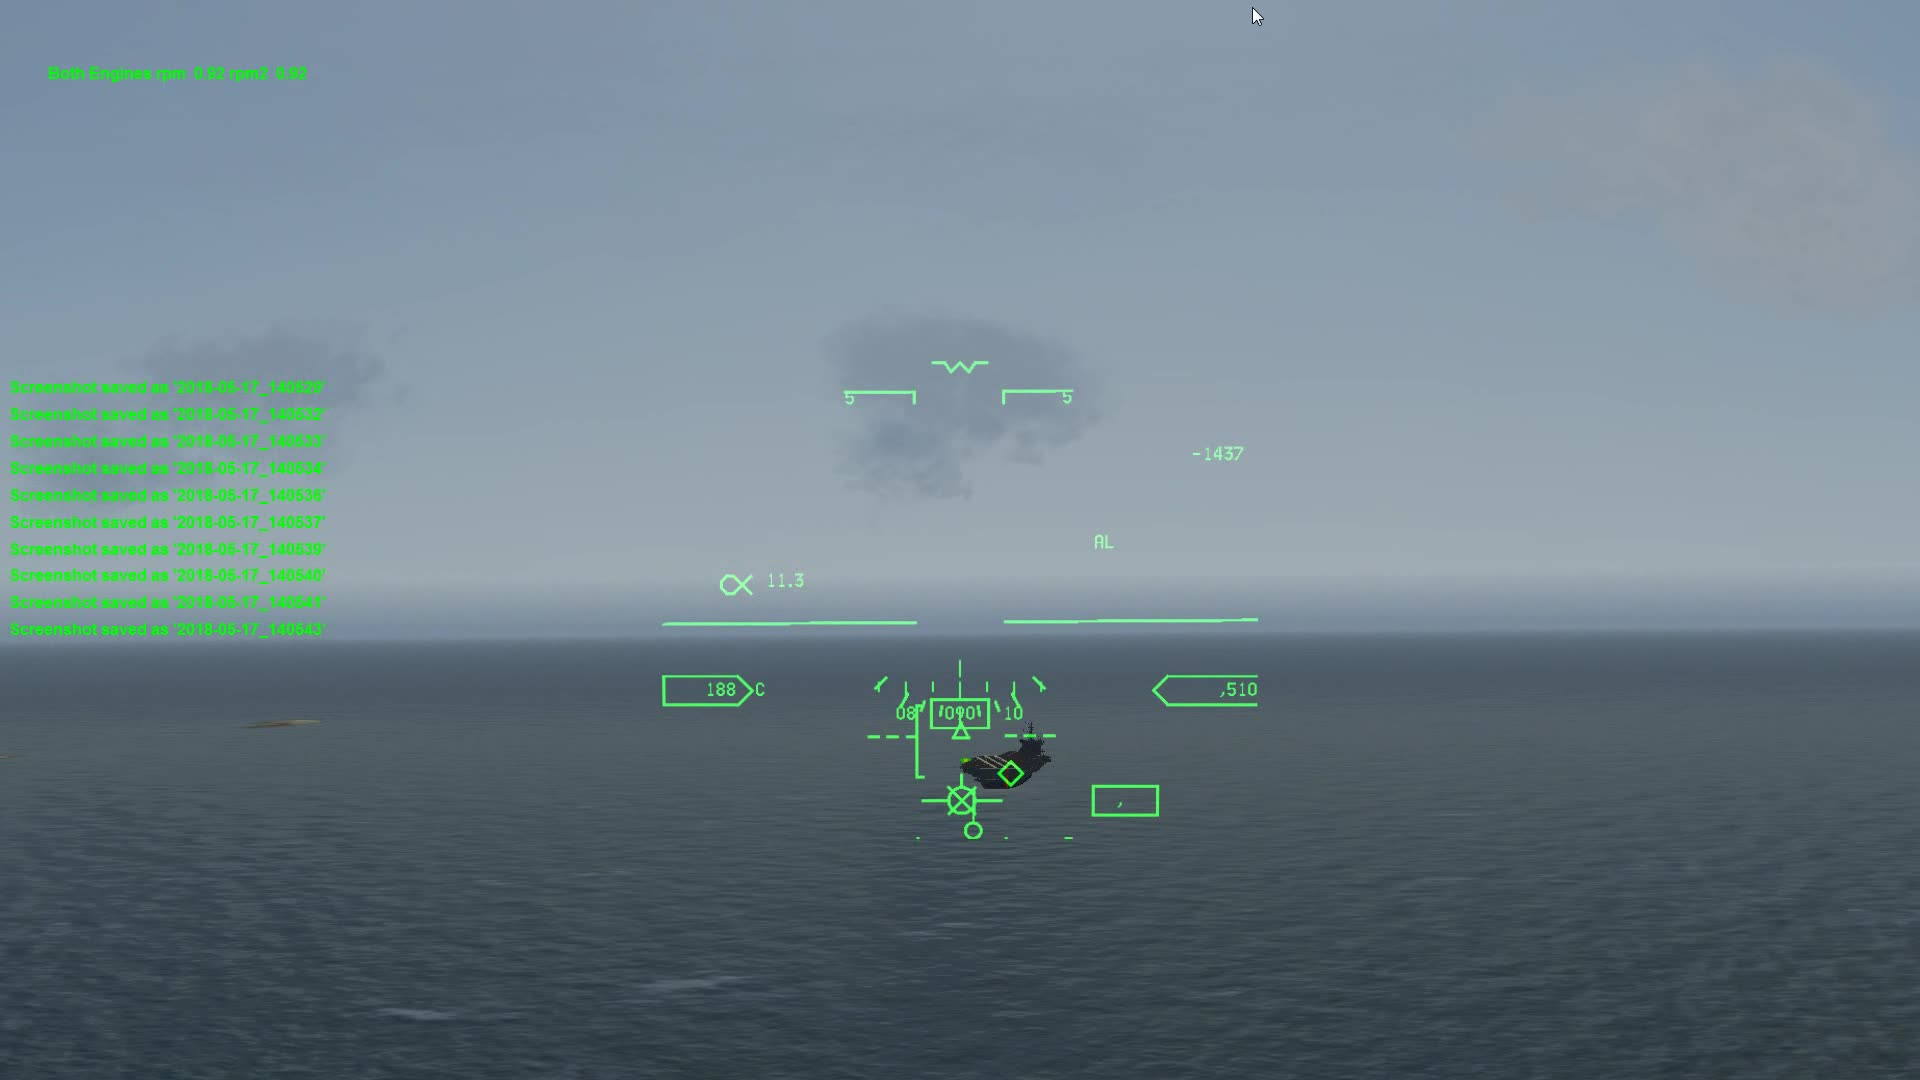speed vector: (916, 774, 1007, 822)
